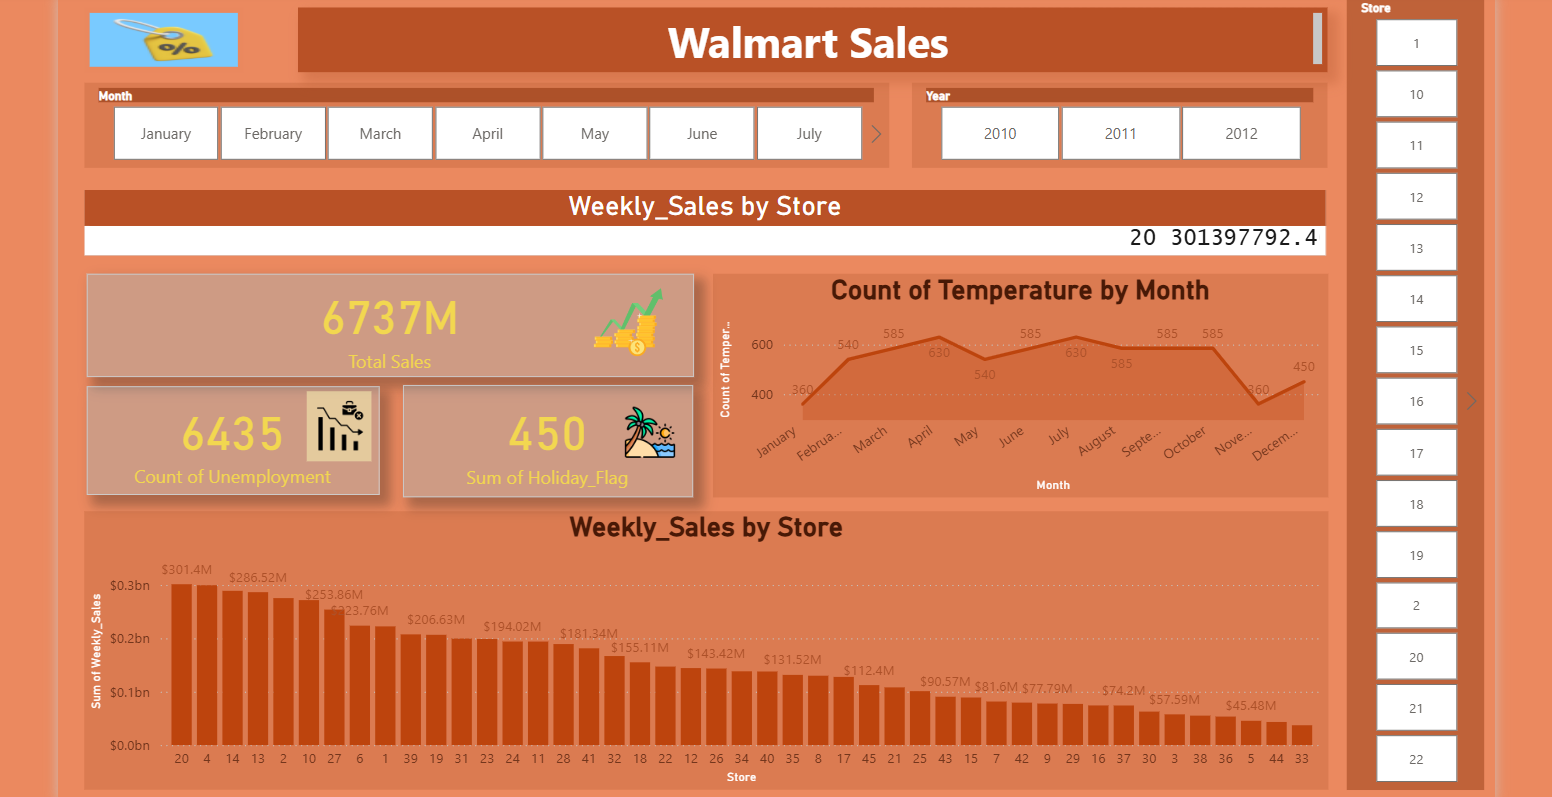

The dashboard page shown, as its layout file describes it:
{"tool":"powerbi","page":{"name":"Page 1","canvas":[1280,720],"ordinal":0},"visuals":[{"type":"slicer","fields":{"Values":["Dimention Table.Store"]},"box":[1148.2,0,122.3,708],"z":0},{"type":"slicer","fields":{"Values":["Walmart_Sales.Date.Variation.Date Hierarchy.Year"]},"box":[760.6,78.3,370.5,75.8],"z":1000},{"type":"card","fields":{"Values":["Dimention Table.Total Sales"]},"box":[25.2,248,540.5,91.7],"z":1003,"group":"g1"},{"type":"card","fields":{"Values":["CountNonNull(Walmart_Sales.Unemployment)"]},"box":[25.7,348.5,260.5,97.1],"z":1007,"group":"g2"},{"type":"image","box":[467.7,253.7,80.2,75.7],"z":1010,"group":"g1"},{"type":"image","box":[221.9,352.6,57.5,62.4],"z":1014,"group":"g2"},{"type":"slicer","fields":{"Values":["Walmart_Sales.Date.Variation.Date Hierarchy.Month"]},"box":[23.2,78.3,716.6,75.8],"z":2000},{"type":"clusteredColumnChart","title":"Weekly_Sales by Store","fields":{"Category":["Dimention Table.Store"],"Y":["Sum(Walmart_Sales.Weekly_Sales)"]},"box":[23.2,459.8,1107.9,248.2],"z":3000},{"type":"lineChart","fields":{"Category":["Walmart_Sales.Date.Variation.Date Hierarchy.Month"],"Y":["CountNonNull(Walmart_Sales.Temperature)"]},"box":[583.3,248.2,547.8,199.3],"z":4000},{"type":"card","fields":{"Values":["Sum(Walmart_Sales.Holiday_Flag)"]},"box":[307.7,347,258,100.3],"z":4000,"group":"g3"},{"type":"textbox","box":[214,11,917.1,57.5],"z":5000},{"type":"image","box":[23.2,11,141.8,57.5],"z":6000},{"type":"group","id":"g1","title":"Group 1","box":[25.2,248,540.5,91.7],"z":7000},{"type":"group","id":"g2","title":"Group 2","box":[25.7,348.5,260.5,96.6],"z":8000},{"type":"group","id":"g3","title":"Group 3","box":[307.7,347,258,100.3],"z":9000},{"type":"image","box":[498.5,361.7,58.7,55],"z":9000,"group":"g3"},{"type":"ScrollingTextVisual1448795304508","title":"Weekly_Sales by Store","fields":{"Category":["Dimention Table.Store"],"Measure Absolute":["Sum(Walmart_Sales.Weekly_Sales)"]},"box":[23.2,173.6,1105.4,58.7],"z":10000}]}

Visuals, with their boxes on the page's 1280x720 design canvas (x1, y1, x2, y2). These are canvas units, not pixel positions in the 1552x797 screenshot, which may show the page scaled, cropped or inside an application window:
slicer - Dimention Table.Store: <region>1148, 0, 1270, 708</region>
slicer - Walmart_Sales.Date.Variation.Date Hierarchy.Year: <region>761, 78, 1131, 154</region>
card - Dimention Table.Total Sales: <region>25, 248, 566, 340</region>
card - CountNonNull(Walmart_Sales.Unemployment): <region>26, 348, 286, 446</region>
image: <region>468, 254, 548, 329</region>
image: <region>222, 353, 279, 415</region>
slicer - Walmart_Sales.Date.Variation.Date Hierarchy.Month: <region>23, 78, 740, 154</region>
"Weekly_Sales by Store" clusteredColumnChart: <region>23, 460, 1131, 708</region>
lineChart - Walmart_Sales.Date.Variation.Date Hierarchy.Month x CountNonNull(Walmart_Sales.Temperature): <region>583, 248, 1131, 448</region>
card - Sum(Walmart_Sales.Holiday_Flag): <region>308, 347, 566, 447</region>
textbox: <region>214, 11, 1131, 68</region>
image: <region>23, 11, 165, 68</region>
"Group 1" group: <region>25, 248, 566, 340</region>
"Group 2" group: <region>26, 348, 286, 445</region>
"Group 3" group: <region>308, 347, 566, 447</region>
image: <region>498, 362, 557, 417</region>
"Weekly_Sales by Store" ScrollingTextVisual1448795304508: <region>23, 174, 1129, 232</region>
